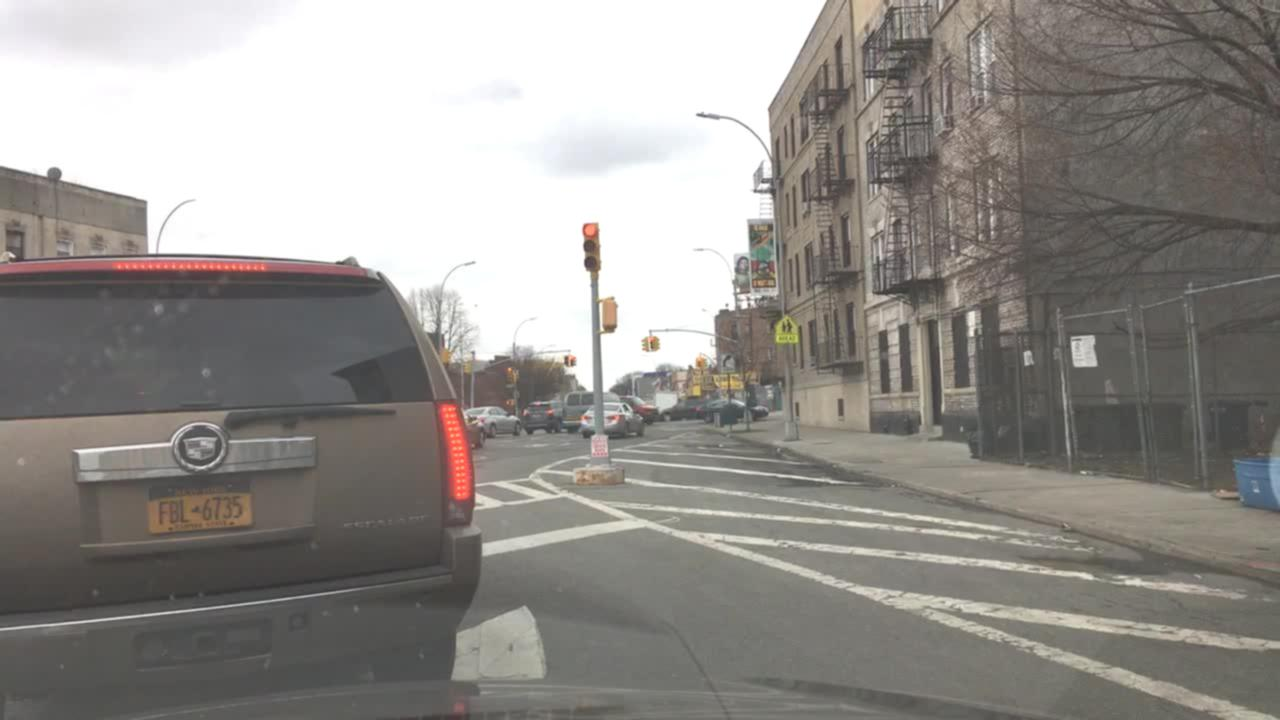cadillac: (169, 418, 236, 477)
